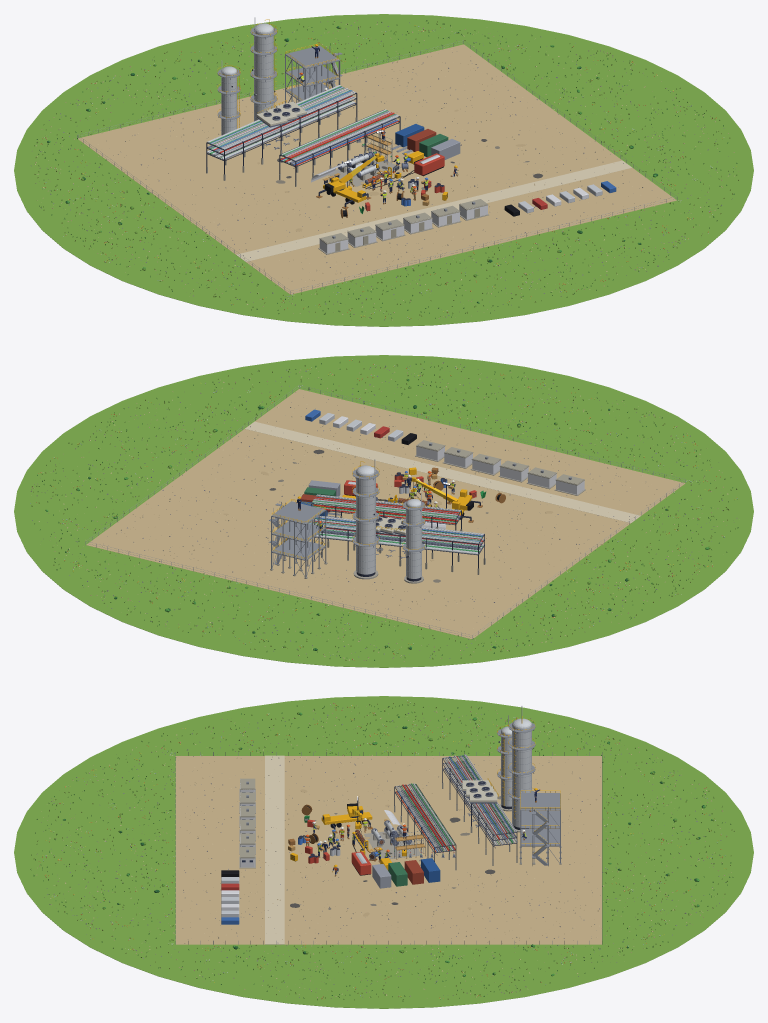
File: reliability.glb
The picture shows the model from 3 angles, top to bottom: view 1: azimuth 30°, elevation 25°; view 2: azimuth 150°, elevation 25°; view 3: azimuth 270°, elevation 25°; orthographic projection.
Parts seen in each view (by area): view 1: reliability_fieldGreen, reliability_gravel, reliability_galvanized, reliability_jacket, reliability_road, reliability_steelDark, reliability_tube, reliability_safetyYellow, reliability_casingShade, reliability_pipeGreen, reliability_concrete, reliability_steel (+13 smaller); view 2: reliability_fieldGreen, reliability_gravel, reliability_galvanized, reliability_jacket, reliability_road, reliability_tube, reliability_steelDark, reliability_safetyYellow, reliability_pipeGreen, reliability_casingShade, reliability_fireRed, reliability_fieldDark (+8 smaller); view 3: reliability_fieldGreen, reliability_gravel, reliability_galvanized, reliability_jacket, reliability_road, reliability_steelDark, reliability_safetyYellow, reliability_casingShade, reliability_concrete, reliability_tube, reliability_fieldDark, reliability_steel (+11 smaller).
Part boxes in pixels (x1,y1,x2,y2): reliability_fieldGreen: (14, 14, 753, 326); reliability_gravel: (78, 44, 676, 294); reliability_galvanized: (77, 27, 677, 294); reliability_jacket: (207, 23, 398, 176); reliability_road: (236, 160, 632, 261); reliability_steelDark: (206, 38, 447, 208); reliability_tube: (44, 26, 733, 318); reliability_safetyYellow: (217, 19, 457, 202); reliability_casingShade: (319, 199, 488, 251); reliability_pipeGreen: (209, 86, 395, 163); reliability_concrete: (270, 109, 488, 254); reliability_steel: (207, 93, 408, 184); reliability_fieldGreen: (14, 355, 753, 667); reliability_gravel: (86, 389, 685, 639); reliability_galvanized: (85, 385, 685, 639); reliability_jacket: (309, 465, 484, 578); reliability_road: (245, 421, 640, 522); reliability_tube: (54, 359, 724, 659); reliability_steelDark: (311, 472, 484, 581); reliability_safetyYellow: (272, 461, 472, 562); reliability_pipeGreen: (309, 496, 482, 552); reliability_casingShade: (416, 440, 584, 485); reliability_fireRed: (313, 496, 483, 545); reliability_fieldDark: (31, 360, 737, 659); reliability_fieldGreen: (14, 696, 753, 1008); reliability_gravel: (175, 756, 601, 944); reliability_galvanized: (175, 722, 602, 944); reliability_jacket: (372, 718, 531, 851); reliability_road: (265, 755, 284, 944); reliability_steelDark: (290, 730, 533, 863); reliability_safetyYellow: (290, 716, 560, 870); reliability_casingShade: (240, 778, 255, 858); reliability_concrete: (239, 788, 561, 868); reliability_tube: (54, 700, 715, 998); reliability_fieldDark: (31, 703, 727, 1001); reliability_steel: (355, 760, 516, 859).
Bounding box in the file's own units: 149 × 28.52 × 149.
